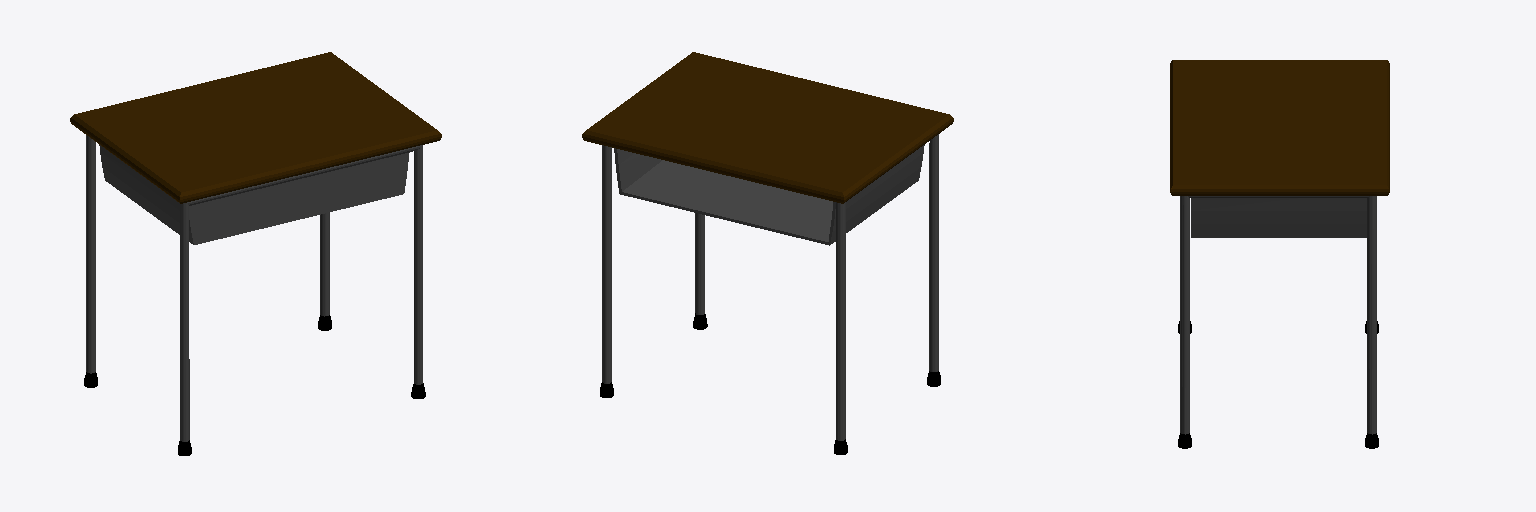
The model's file is school_desk.obj.
3 renders of one model, left to right at view 1: azimuth 30°, elevation 25°; view 2: azimuth 150°, elevation 25°; view 3: azimuth 270°, elevation 25°, orthographic.
Parts seen in each view (by area): view 1: SchoolDesk; view 2: SchoolDesk; view 3: SchoolDesk.
Boxes of the visible parts, <box> form: SchoolDesk: <box>70,52,441,455</box>; SchoolDesk: <box>582,52,953,454</box>; SchoolDesk: <box>1170,60,1389,448</box>.
Size of the model in its own units: 3.22 by 3.14 by 2.33.